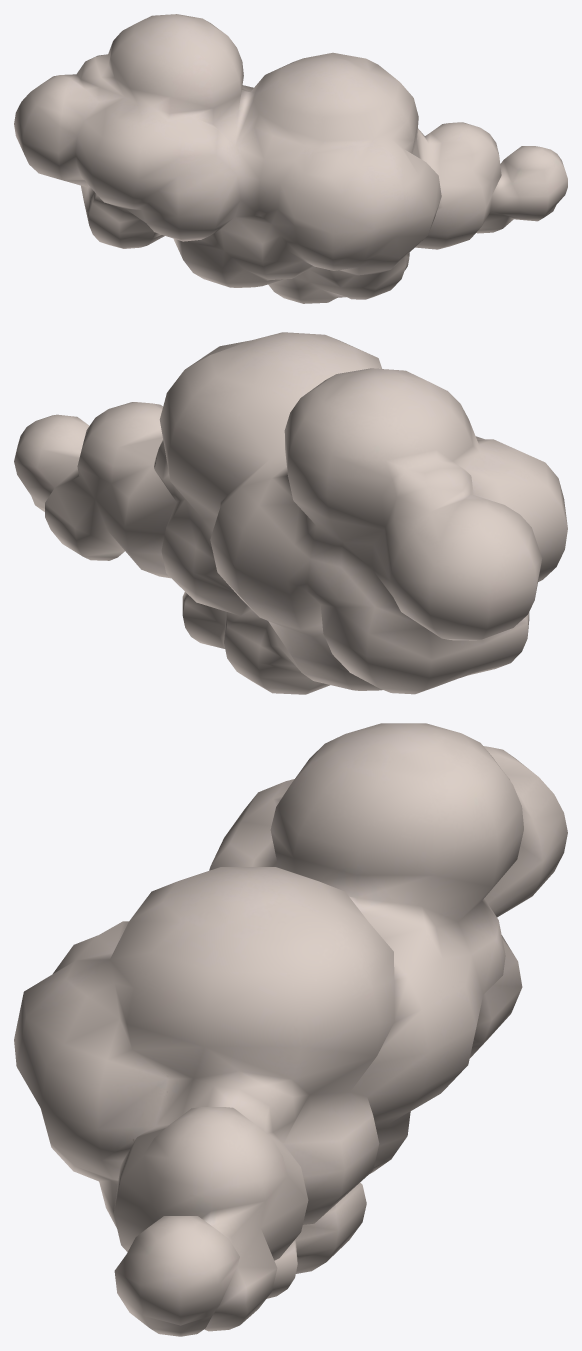
File: fluffy_cloud.glb
The picture shows the model from 3 angles, top to bottom: view 1: azimuth 30°, elevation 25°; view 2: azimuth 150°, elevation 25°; view 3: azimuth 270°, elevation 25°; orthographic projection. The views are drawn at different scales.
Parts seen in each view (by area): view 1: tripo_node_4fc01ee9-6814-4cfa-9ec4-cf4dff6d4470; view 2: tripo_node_4fc01ee9-6814-4cfa-9ec4-cf4dff6d4470; view 3: tripo_node_4fc01ee9-6814-4cfa-9ec4-cf4dff6d4470.
Part boxes in pixels (bbox=[...]): tripo_node_4fc01ee9-6814-4cfa-9ec4-cf4dff6d4470: bbox=[14, 14, 567, 303]; tripo_node_4fc01ee9-6814-4cfa-9ec4-cf4dff6d4470: bbox=[14, 332, 567, 694]; tripo_node_4fc01ee9-6814-4cfa-9ec4-cf4dff6d4470: bbox=[14, 723, 567, 1336].
Size of the model in its own units: 0.9995 by 0.5688 by 0.6294.
Materials: 1 (1 with a texture image).
